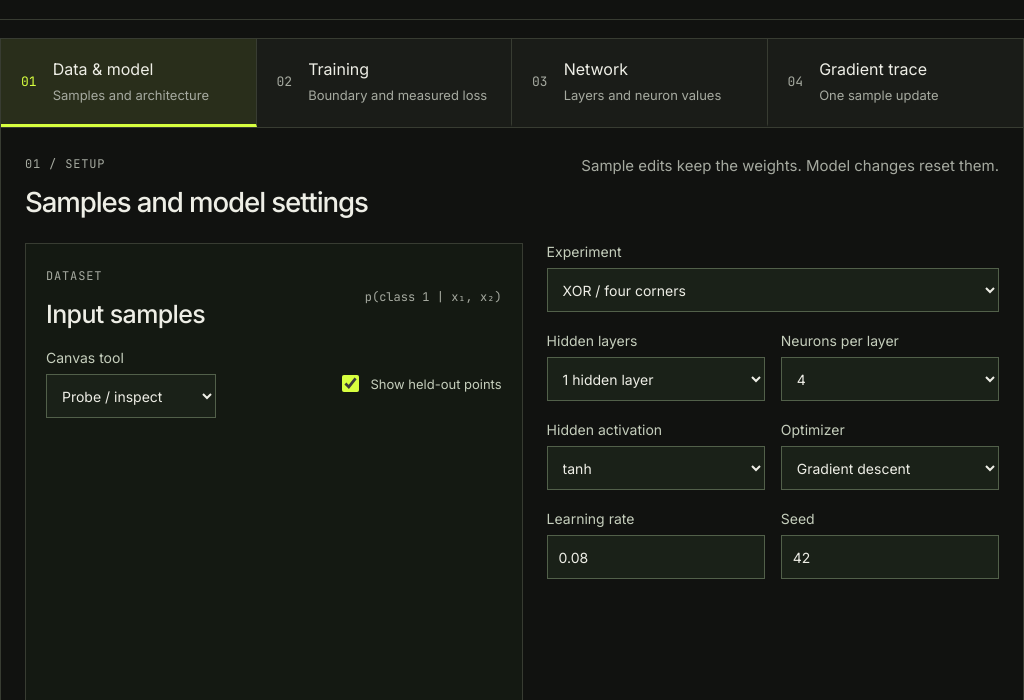
removing hidden layers leaves a three-parameter linear model and a valid inspector
(page scrolled)
Select "None / linear model" in the dropdown labelled "Hidden layers": (656,379) [547, 357, 765, 401]
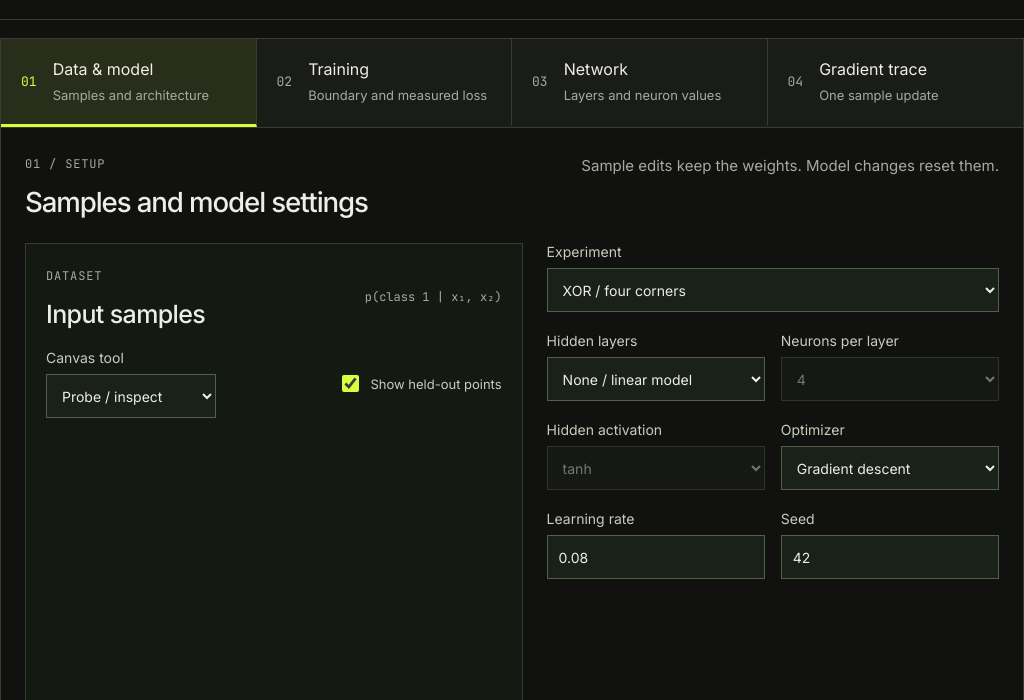
Now the dropdown labelled "Neurons per layer" is disabled, box [781, 357, 999, 401]
Click the tab "03 Network Layers and neuron values": (640,83) [512, 39, 768, 127]
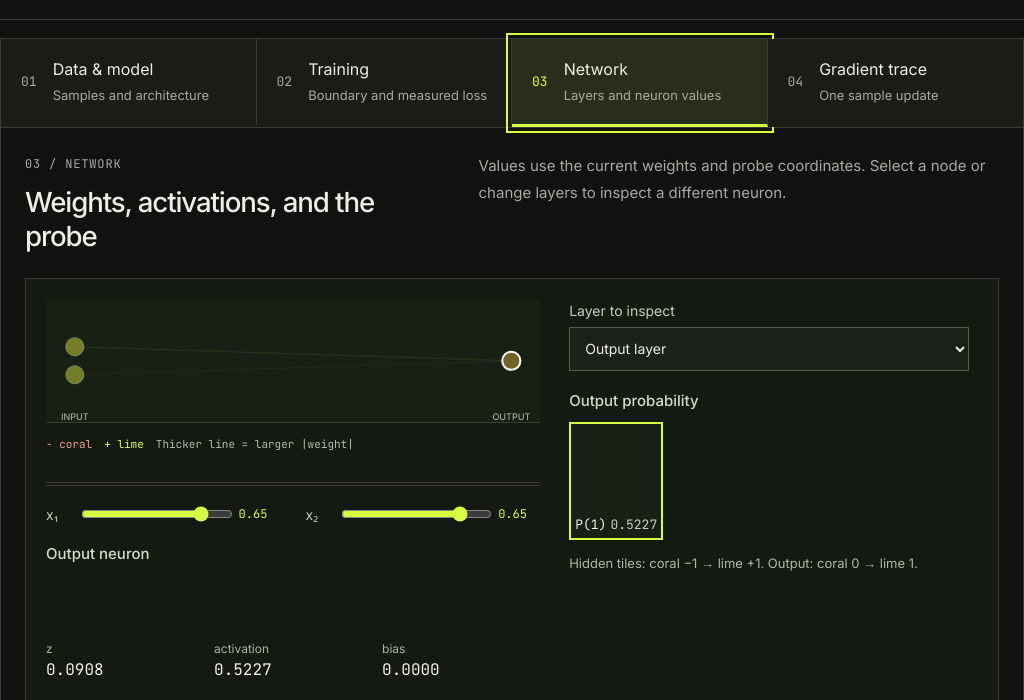
Now the heading "Output neuron" is shown, box [46, 544, 150, 563]
Click the tab "02 Training Boundary and measured loss": (384,83) [256, 39, 512, 127]
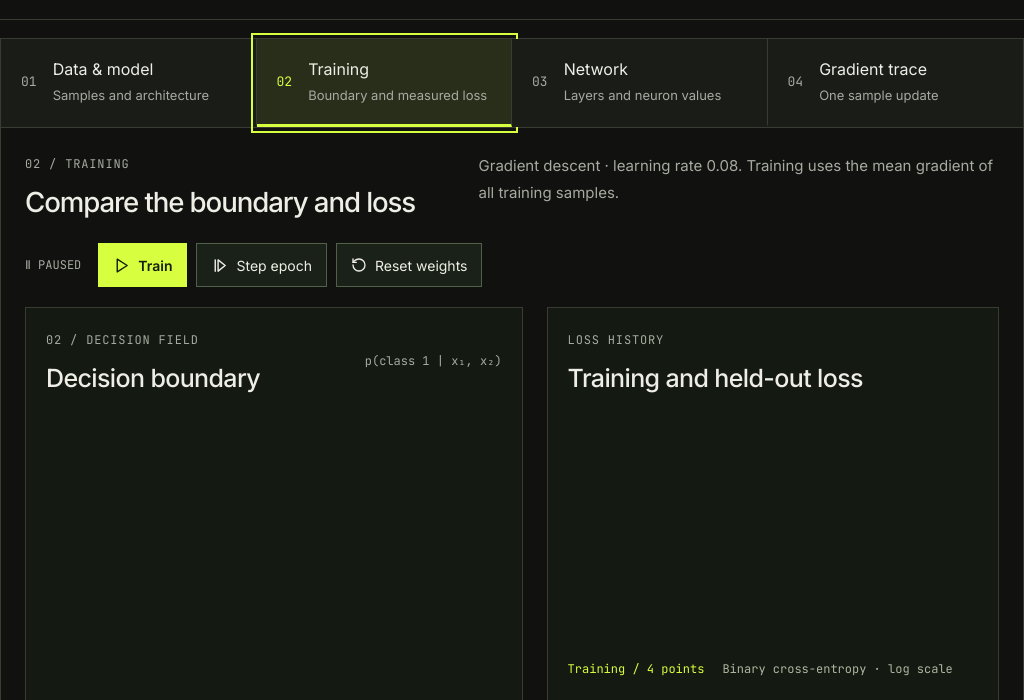
Click the button "Step epoch": (262,265) [196, 243, 327, 287]
(page scrolled)
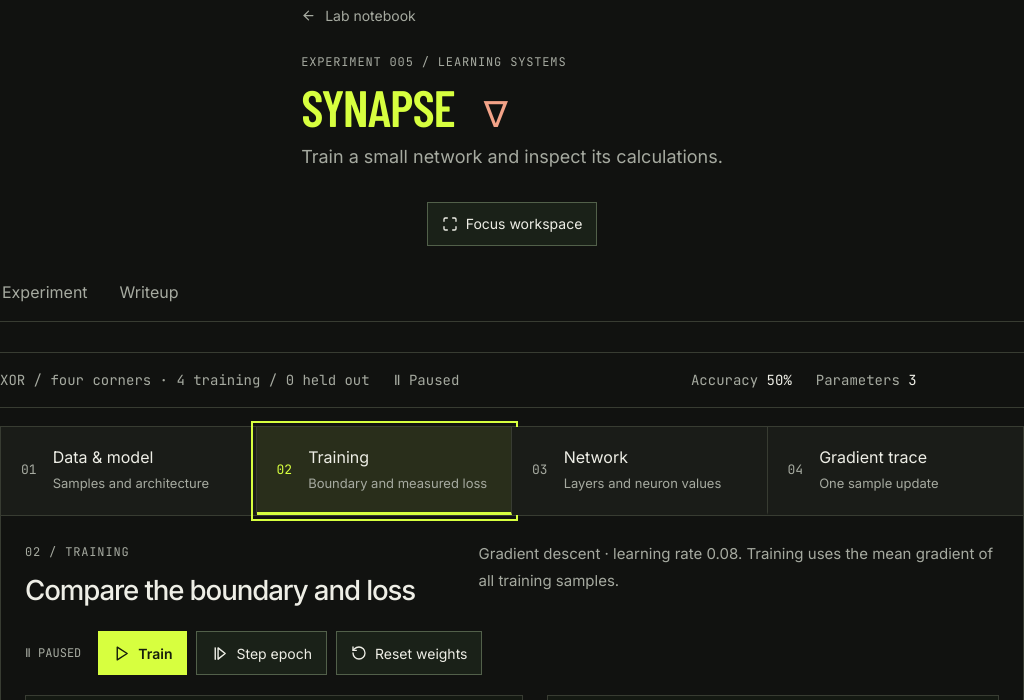
Now the element named "Current training summary" shows "Epochs 1", box [0, 352, 1023, 408]
